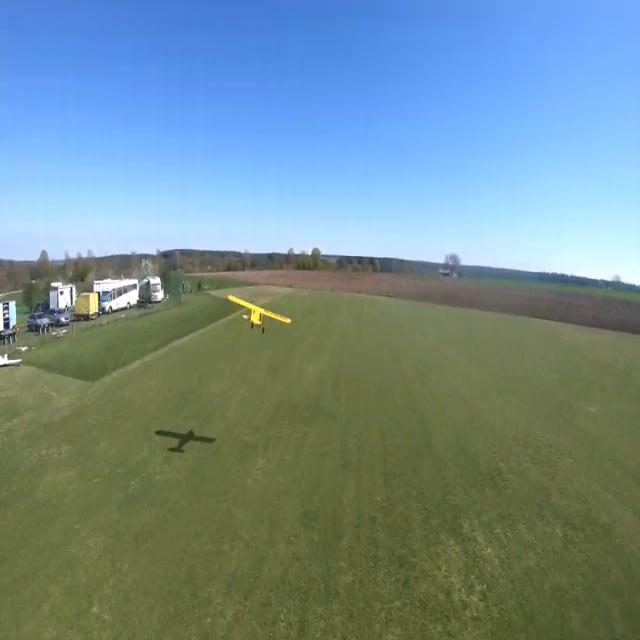iha: (257, 291, 259, 331)
